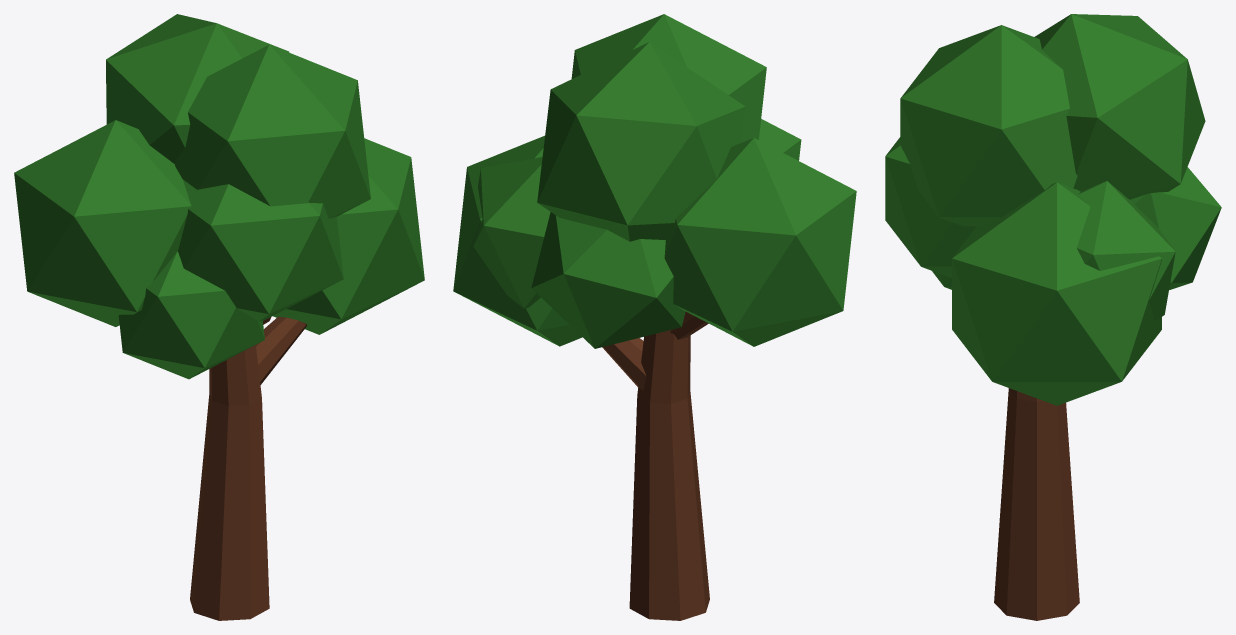
Rendered from Tree.fbx.
3 renders of one model, left to right at view 1: azimuth 30°, elevation 25°; view 2: azimuth 150°, elevation 25°; view 3: azimuth 270°, elevation 25°, orthographic. The views are drawn at different scales.
Parts seen in each view (by area): view 1: Tree; view 2: Tree; view 3: Tree.
Part boxes in pixels (box(x1,y1,x2,y2)): Tree: box(14, 14, 424, 620); Tree: box(453, 14, 856, 620); Tree: box(885, 14, 1221, 620).
Bounding box in the file's own units: 7.9 × 11.33 × 5.85.
